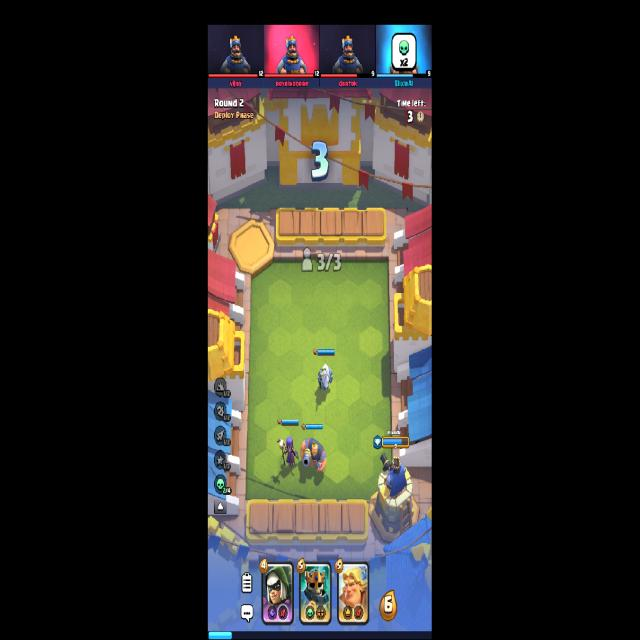card_bandit: (261, 560, 294, 627)
card_golden_knight: (337, 561, 370, 625)
card_skeleton_king: (300, 561, 332, 624)
royal_ghost: (318, 364, 332, 392)
royal_giant: (300, 437, 327, 473)
witch: (277, 436, 299, 469)
